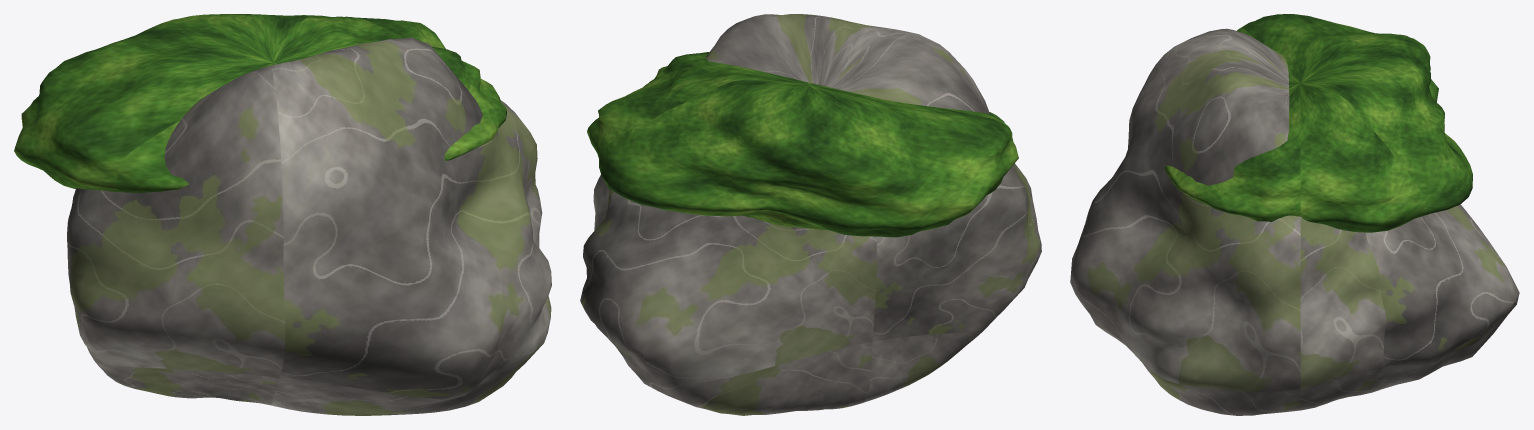
The model's file is boulder_mossy.gltf.
The picture shows the model from 3 angles, left to right: view 1: azimuth 30°, elevation 25°; view 2: azimuth 150°, elevation 25°; view 3: azimuth 270°, elevation 25°; orthographic projection. The views are drawn at different scales.
Visible parts, largest first — view 1: boulder_mossy; view 2: boulder_mossy; view 3: boulder_mossy.
Boxes of the visible parts, left/top/right/bottom form: boulder_mossy: left=14, top=14, right=551, bottom=415; boulder_mossy: left=580, top=14, right=1041, bottom=415; boulder_mossy: left=1070, top=14, right=1519, bottom=415.
Bounding box in the file's own units: 2.39 × 1.73 × 2.34.
2 materials, 2 textured.
